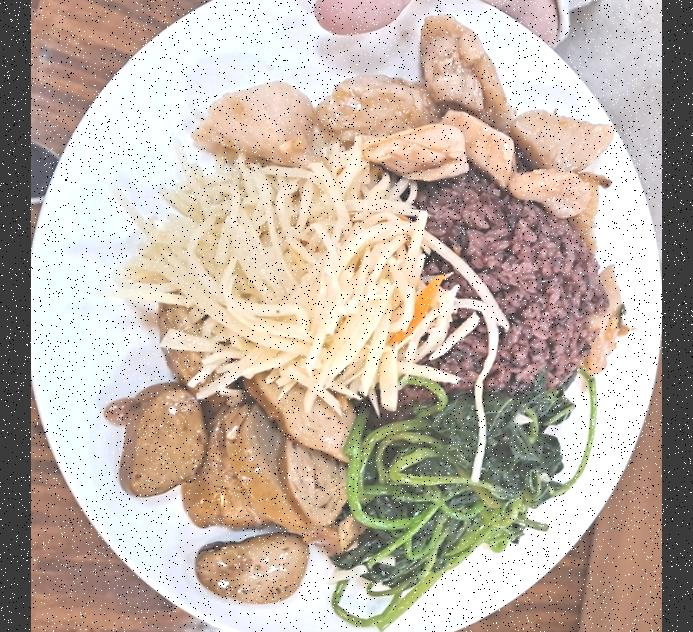plate: (30, 0, 655, 632)
purple rice: (408, 178, 604, 390)
scallion chicken: (195, 12, 616, 216)
side dish: (98, 143, 460, 398), (111, 295, 365, 616), (330, 370, 606, 632)
